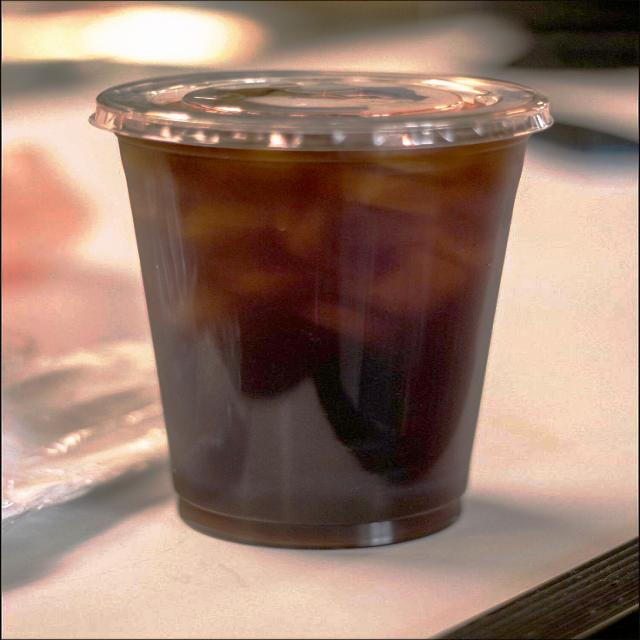drink: (86, 65, 559, 526)
